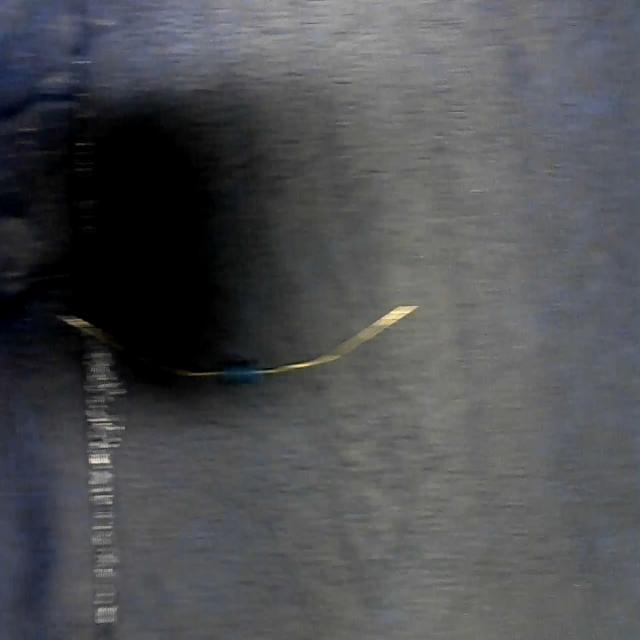resistor: (130, 318, 383, 391)
